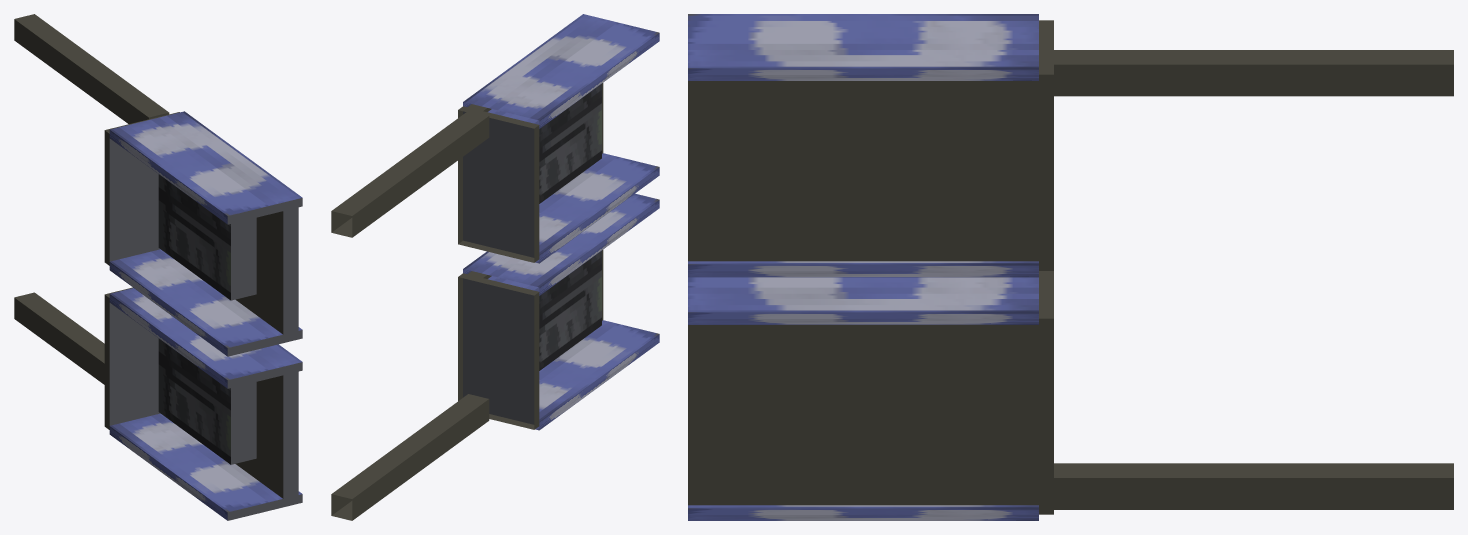
File: pz_native_street_decoration_01_46.obj
The picture shows the model from 3 angles, left to right: view 1: azimuth 30°, elevation 25°; view 2: azimuth 150°, elevation 25°; view 3: azimuth 270°, elevation 25°; orthographic projection. The views are drawn at different scales.
Visible parts, largest first — view 1: pz_native_street_decoration_01_46; view 2: pz_native_street_decoration_01_46; view 3: pz_native_street_decoration_01_46.
Boxes of the visible parts, bbox=[...] form: pz_native_street_decoration_01_46: bbox=[14, 14, 302, 520]; pz_native_street_decoration_01_46: bbox=[331, 14, 659, 520]; pz_native_street_decoration_01_46: bbox=[688, 14, 1453, 520].
Size of the model in its own units: 0.2689 by 1.04 by 1.6.
1 material, 1 textured.
